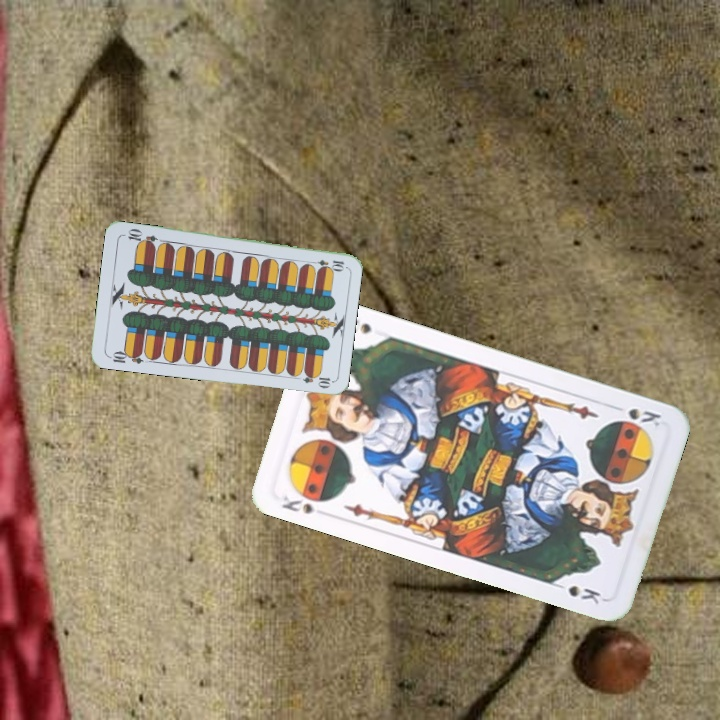E10: (105, 346, 145, 366), (306, 255, 346, 271)
SK: (608, 401, 664, 430), (277, 491, 317, 517)
